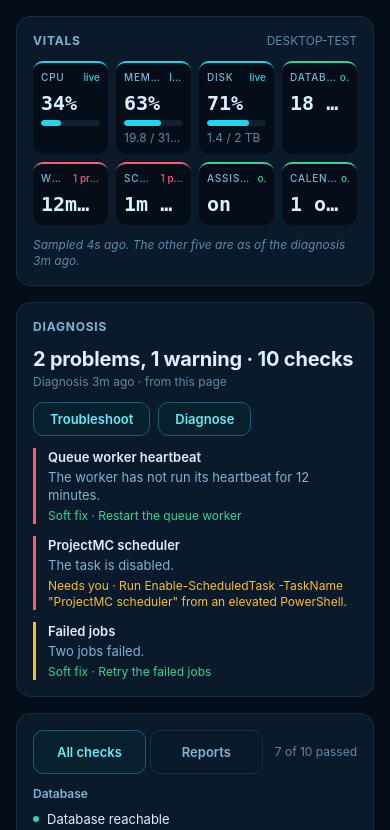
Test: troubleshoot › keeps the report and shows the sentence when it is refused
This screenshot has width=390, height=830.
What coordinates should you click on to do the following:
click the button with test id "stats-troubleshoot"
I would click on:
 (92, 419)
Its box is [33,402,150,436].
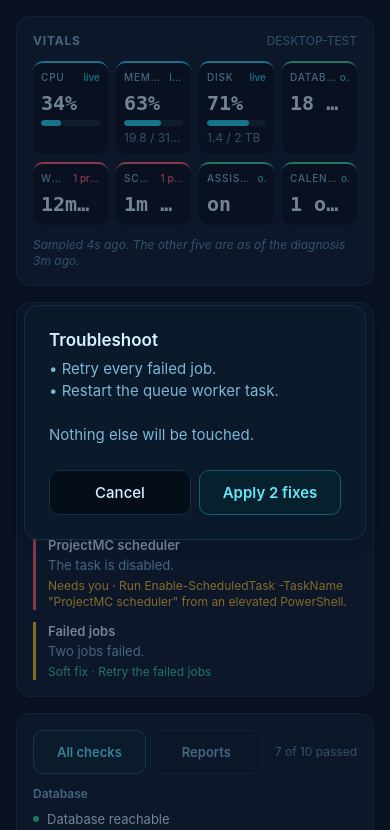
What coordinates should you click on to do the following:
click the text "Apply 2 fixes"
I would click on:
 (270, 492)
Its box is [223,482,317,502].
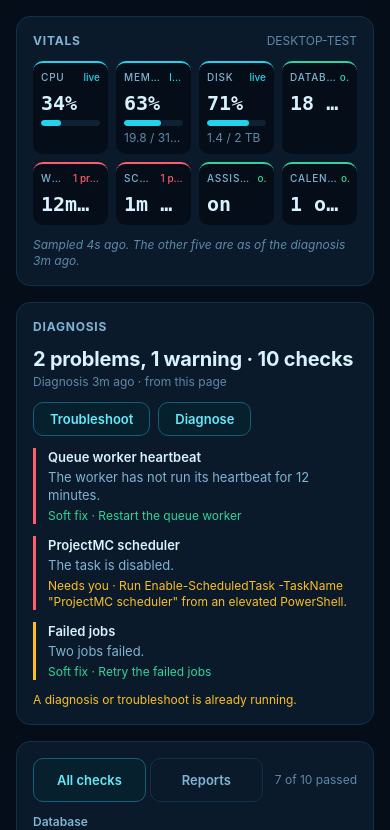
Check: the text "2 problems, 1 warning · 10 checks" is shown, box [33,346,357,372]
Check: the text "A diagnosis or troubleshoot is already running." is shown, box [33,692,297,707]
